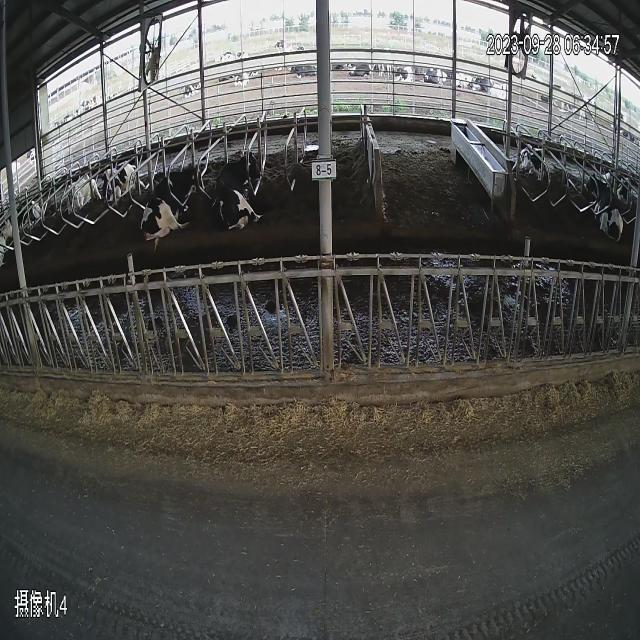lying down: (507, 100, 640, 259), (138, 111, 198, 261), (210, 133, 278, 249), (582, 164, 628, 241), (61, 163, 109, 222), (510, 130, 550, 198), (104, 144, 142, 206), (179, 72, 209, 104), (392, 54, 415, 94), (228, 63, 257, 93)
